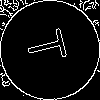T: (25, 25, 76, 66)
